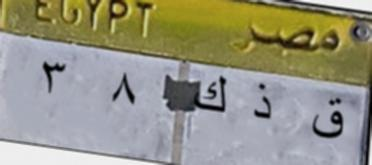3: (38, 59, 69, 103)
8: (106, 68, 138, 118)
kaaf: (192, 71, 230, 121)
qaaf: (305, 90, 346, 152)
zaal: (249, 79, 276, 128)
